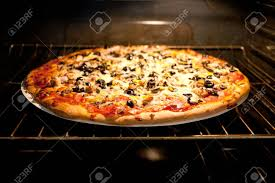pizza: (27, 52, 243, 122)
